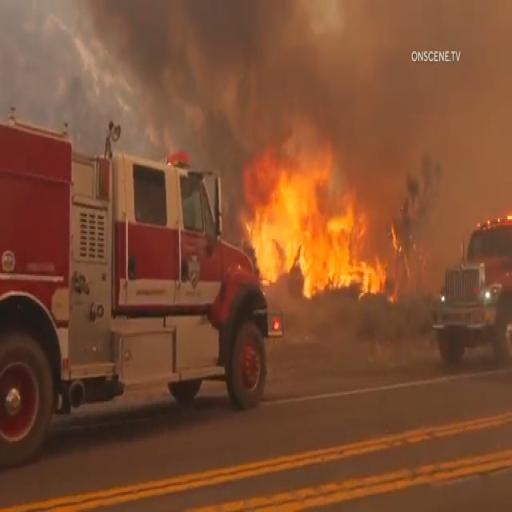fire: (246, 123, 383, 304), (138, 6, 320, 134)
